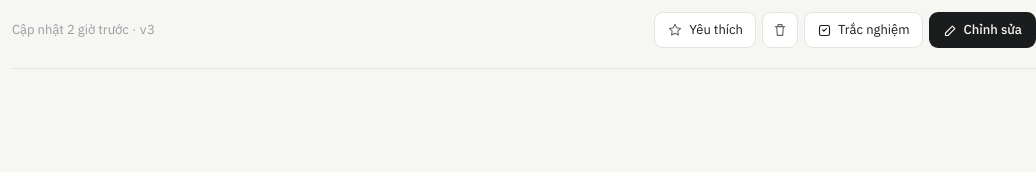
DetailActions › shows "Yêu thích" when not favourited and "Đã yêu thích" after toggling
Click the button "Yêu thích": coordinates (705, 30) [654,12,756,48]
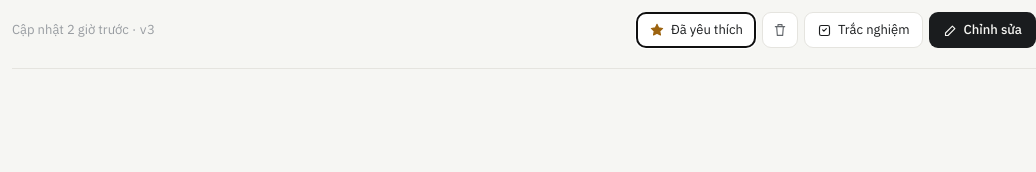
Check: the button "Đã yêu thích" is shown, box [636,12,756,48]
